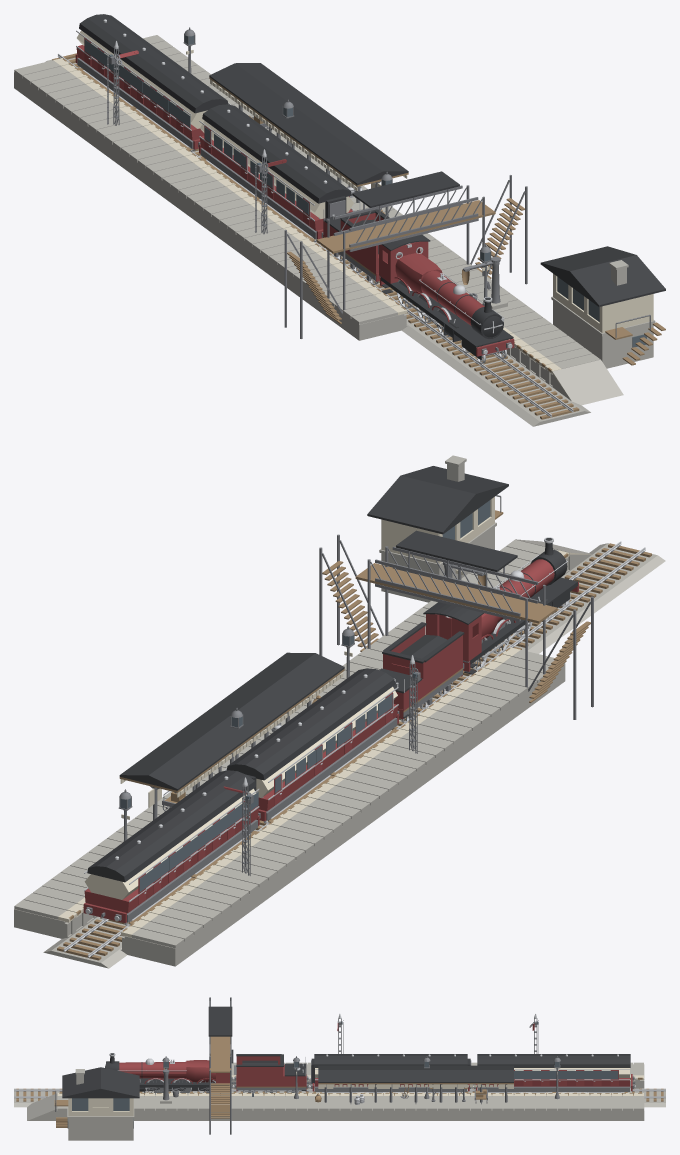
File: train_station.glb
3 renders of one model, top to bottom at view 1: azimuth 30°, elevation 25°; view 2: azimuth 150°, elevation 25°; view 3: azimuth 270°, elevation 25°, orthographic. The views are drawn at different scales.
Parts seen in each view (by area): view 1: 039-footbridge/1, 027-platform-module-ramp/0, 017-corridor-coach/21, 018-compartment-coach/21, 039-footbridge/0, 038-signal-box/5, 015-mixed-traffic-4-6-0/1, 034-platform-module/0, 015-mixed-traffic-4-6-0/0, 028-platform-module/0, 030-platform-module/0, 031-platform-module/0 (+31 smaller); view 2: 039-footbridge/1, 017-corridor-coach/21, 018-compartment-coach/21, 039-footbridge/0, 038-signal-box/5, 028-platform-module/0, 031-platform-module/0, 030-platform-module/0, 033-platform-module/0, 035-platform-canopy/2, 032-platform-module/0, 029-platform-module/0 (+29 smaller); view 3: 038-signal-box/5, 018-compartment-coach/21, 017-corridor-coach/21, 015-mixed-traffic-4-6-0/1, 019-platform-module/0, 024-platform-module/0, 020-platform-module/0, 038-signal-box/0, 022-platform-module/0, 021-platform-module/0, 023-platform-module/0, 016-six-wheel-tender/15 (+28 smaller).
Boxes of the visible parts, x1,y1,x2,y2 form: 039-footbridge/1: (284,175,527,338); 027-platform-module-ramp/0: (504,323,623,405); 017-corridor-coach/21: (202,104,351,218); 018-compartment-coach/21: (79,14,228,113); 039-footbridge/0: (287,198,524,323); 038-signal-box/5: (540,246,665,306); 015-mixed-traffic-4-6-0/1: (379,241,484,325); 034-platform-module/0: (310,277,407,340); 015-mixed-traffic-4-6-0/0: (381,234,513,359); 028-platform-module/0: (14,60,101,123); 030-platform-module/0: (112,132,200,195); 031-platform-module/0: (162,168,249,231); 039-footbridge/1: (319,534,593,719); 017-corridor-coach/21: (226,668,395,790); 018-compartment-coach/21: (87,770,256,882); 039-footbridge/0: (322,561,590,702); 038-signal-box/5: (367,466,508,534); 028-platform-module/0: (121,894,230,966); 031-platform-module/0: (298,772,398,843); 030-platform-module/0: (243,813,342,884); 033-platform-module/0: (410,690,509,762); 035-platform-canopy/2: (119,734,233,790); 032-platform-module/0: (354,731,453,802); 029-platform-module/0: (187,854,286,925); 038-signal-box/5: (62,1067,139,1098); 018-compartment-coach/21: (477,1054,630,1067); 017-corridor-coach/21: (311,1054,470,1083); 015-mixed-traffic-4-6-0/1: (119,1060,229,1083); 019-platform-module/0: (579,1094,644,1120); 024-platform-module/0: (253,1094,318,1120); 020-platform-module/0: (514,1094,578,1120); 038-signal-box/0: (68,1074,133,1140); 022-platform-module/0: (383,1096,448,1120); 021-platform-module/0: (448,1095,513,1120); 023-platform-module/0: (318,1095,383,1120); 016-six-wheel-tender/15: (236,1056,306,1086).
Bounding box in the file's own units: 17.84 × 7.82 × 60.
